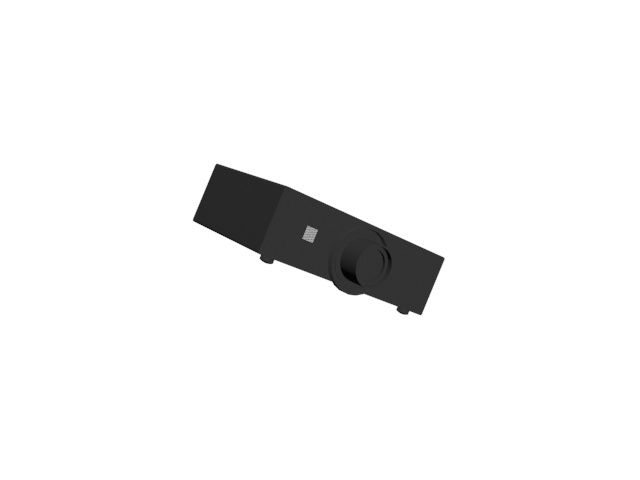projector: (193, 161, 448, 320)
